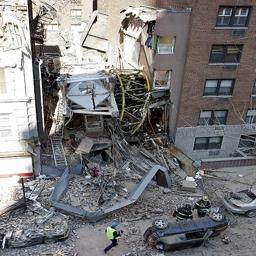hat: (110, 220, 120, 234)
vest: (106, 231, 119, 256)
